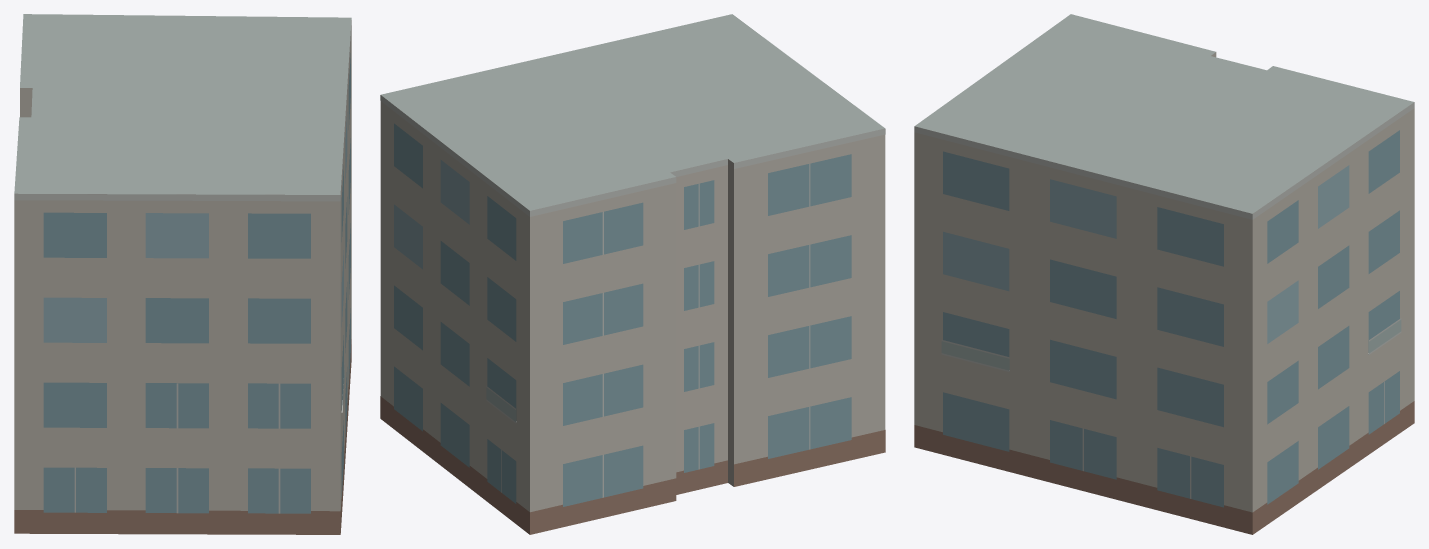
The model's file is survey-upis-32744275.glb.
The picture shows the model from 3 angles, left to right: view 1: azimuth 30°, elevation 25°; view 2: azimuth 150°, elevation 25°; view 3: azimuth 270°, elevation 25°; orthographic projection. The views are drawn at different scales.
Parts seen in each view (by area): view 1: survey-upis-32744275.tmp; view 2: survey-upis-32744275.tmp; view 3: survey-upis-32744275.tmp.
Part boxes in pixels (box(x1,y1,x2,y2)): survey-upis-32744275.tmp: box(14, 14, 351, 534); survey-upis-32744275.tmp: box(380, 14, 885, 534); survey-upis-32744275.tmp: box(914, 14, 1414, 534).
Bounding box in the file's own units: 17.36 × 13 × 18.36.
